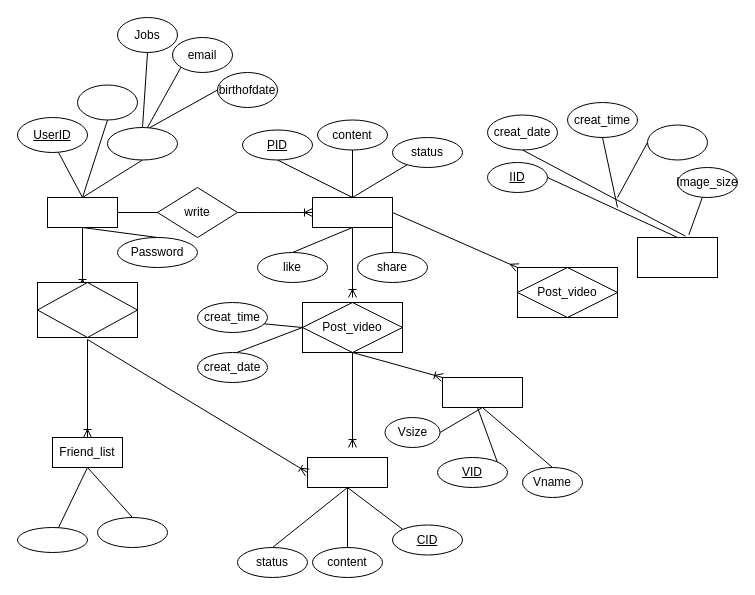
Image size: 755x595. Some labels were removed from this diagram. The centre of each missing label's shape, as x and y in pixels:
"comments" belongs at pixel 347 472.
"FID" belongs at pixel 132 532.
"Fname" belongs at pixel 52 539.
"I_name" belongs at pixel 677 142.
"Images" belongs at pixel 677 257.
"Post" belongs at pixel 352 212.
"Profile" belongs at pixel 142 143.
"User" belongs at pixel 82 212.
"User_Comment" belongs at pixel 87 310.
"Username" belongs at pixel 107 102.
"videos" belongs at pixel 482 392.
